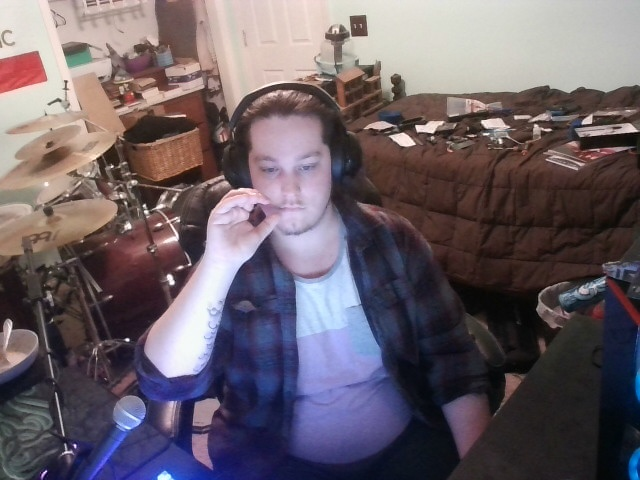drink: (192, 175, 288, 273)
